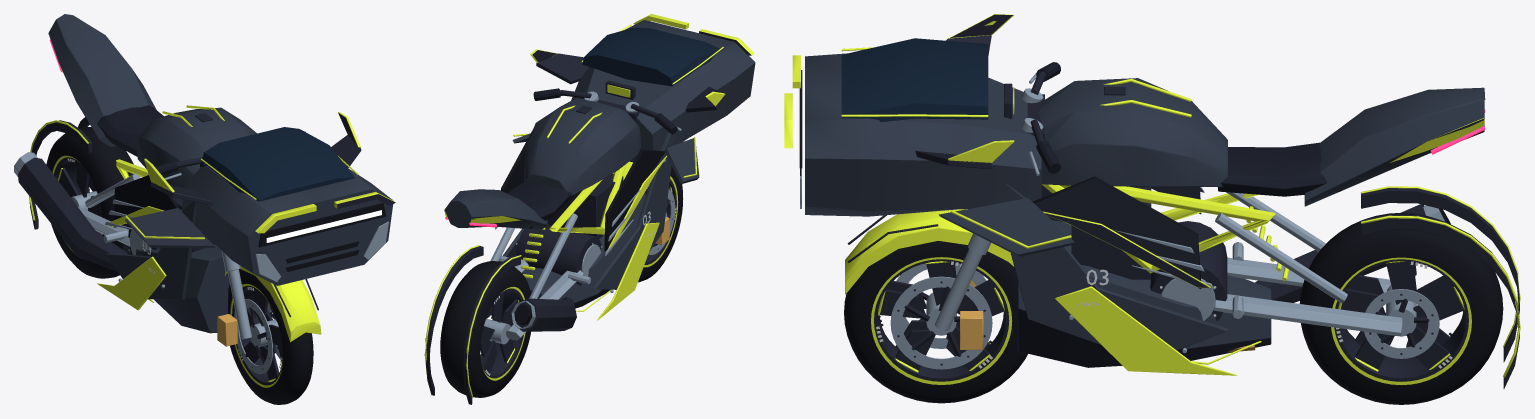
The model's file is oni.glb.
The picture shows the model from 3 angles, left to right: view 1: azimuth 30°, elevation 25°; view 2: azimuth 150°, elevation 25°; view 3: azimuth 270°, elevation 25°; orthographic projection. The views are drawn at different scales.
Parts seen in each view (by area): view 1: bike_body, wheel_f, wheel_r; view 2: bike_body, wheel_r, wheel_f; view 3: bike_body, wheel_r, wheel_f.
Boxes of the visible parts, <box> form: bike_body: <box>14,14,395,346</box>; wheel_f: <box>228,269,313,404</box>; wheel_r: <box>46,127,133,278</box>; bike_body: <box>424,14,755,404</box>; wheel_r: <box>440,261,530,397</box>; wheel_f: <box>638,166,683,282</box>; bike_body: <box>784,14,1520,388</box>; wheel_r: <box>1299,212,1503,404</box>; wheel_f: <box>844,241,1027,403</box>.
Bounding box in the file's own units: 0.9198 × 1.12 × 2.21.
